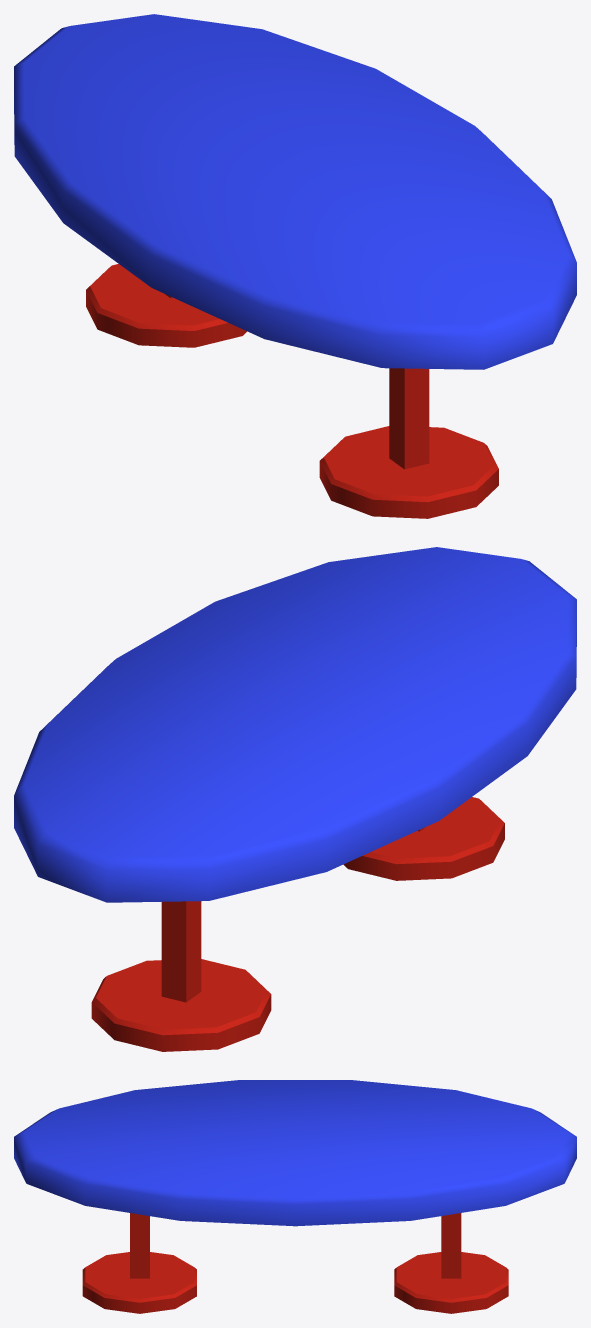
The model's file is ban an 4.FBX.
3 renders of one model, top to bottom at view 1: azimuth 30°, elevation 25°; view 2: azimuth 150°, elevation 25°; view 3: azimuth 270°, elevation 25°, orthographic. The views are drawn at different scales.
Visible parts, largest first — view 1: Object232; view 2: Object232; view 3: Object232.
Part boxes in pixels (x1,y1,x2,y2): Object232: (14,14,576,518); Object232: (14,547,576,1051); Object232: (14,1080,576,1313).
Bounding box in the file's own units: 2.55 × 1.47 × 4.99.
